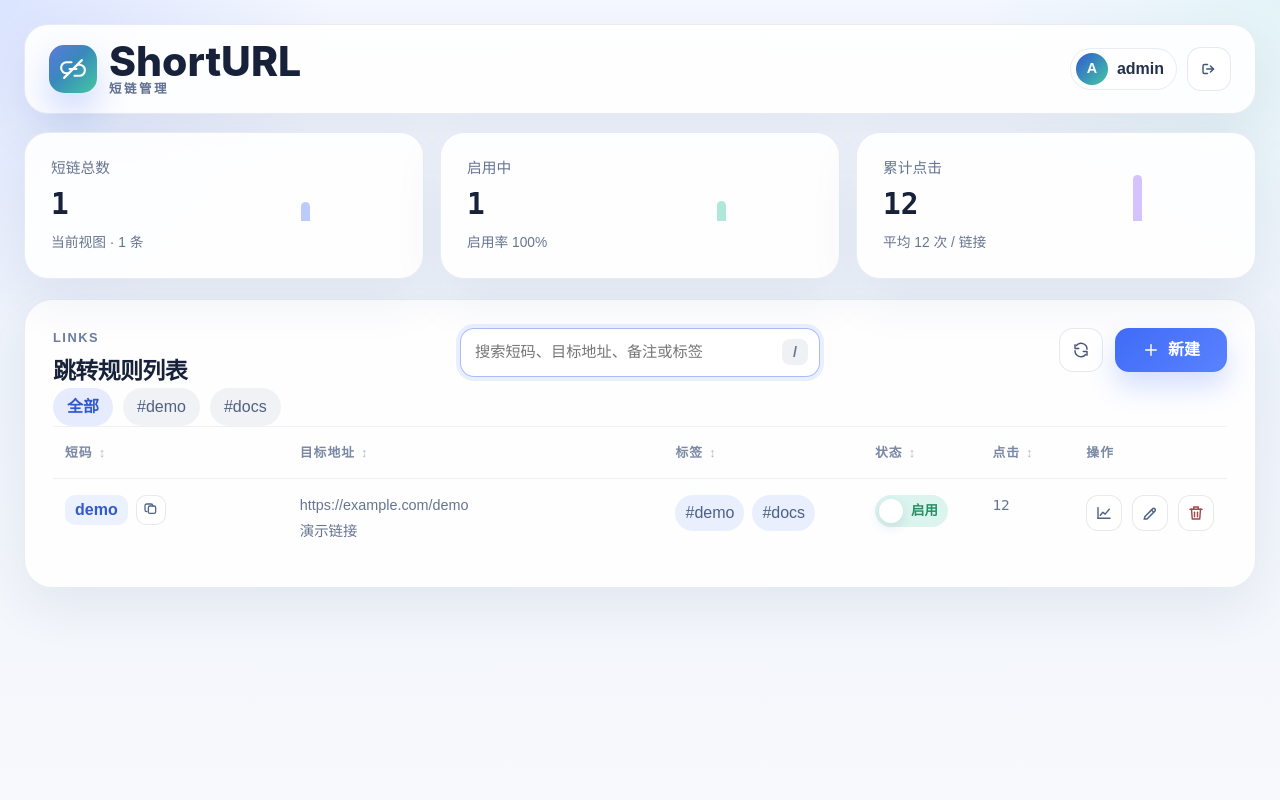
Test: LinksPage › opens edit modal
The width and height of the screenshot is (1280, 800).
Click the button named "编辑": {"x": 1150, "y": 513} [1132,495,1168,531]
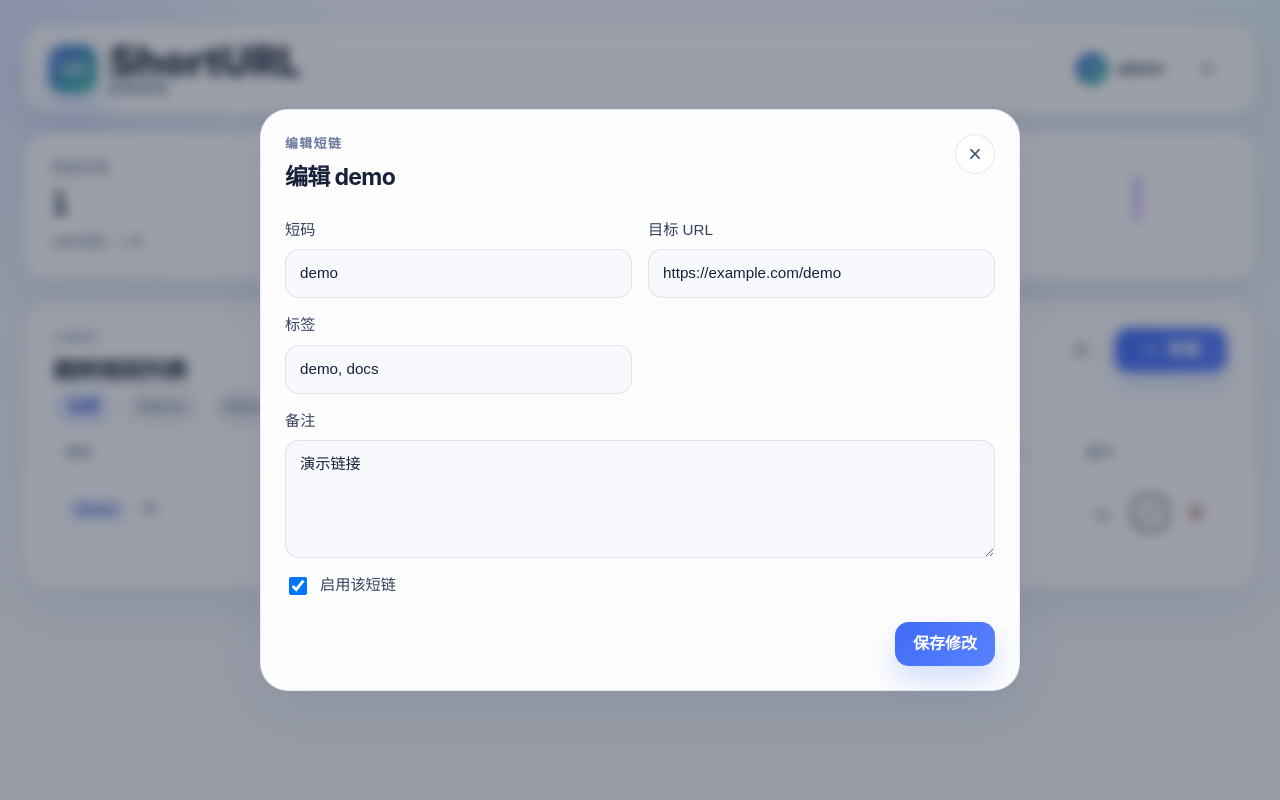
Expected: the dialog is shown, [260,109,1020,691]
Expected: the field showing "demo" is shown, [285,249,632,298]
